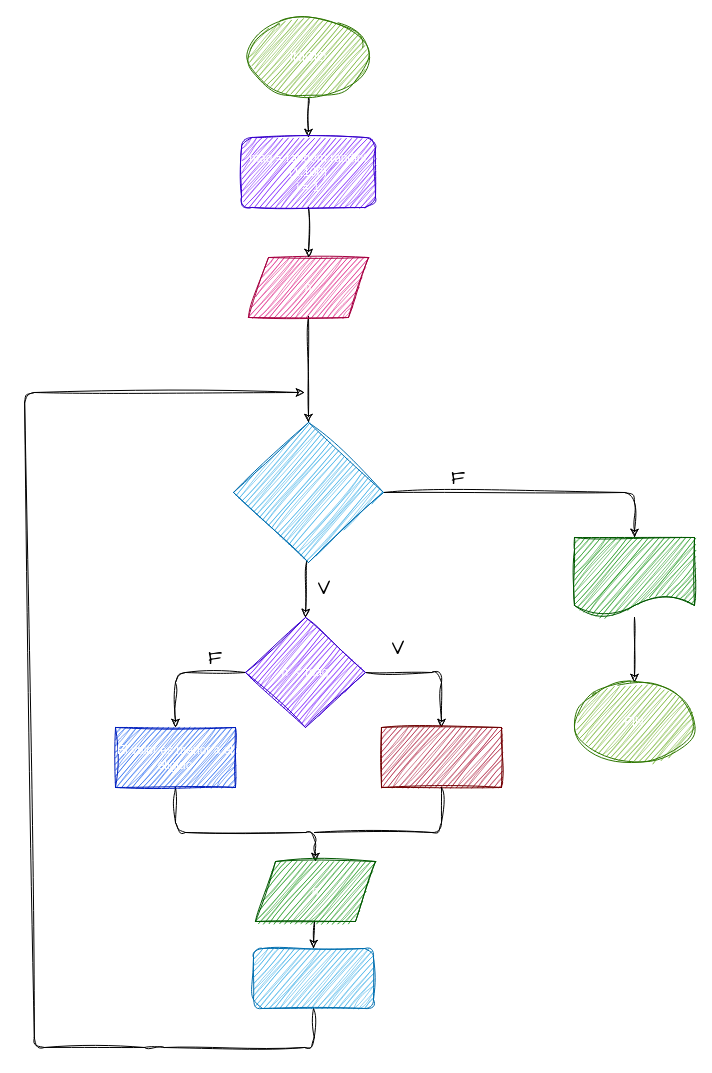
This 712x1073 diagram has some shape labels left out. Each missing label, with the centre of its shape:
el número ingresado es correcto: the point at 634,577
El valor es mayor a el eligido: the point at 441,757
i += 1: the point at 313,978
n != maq: the point at 308,492
